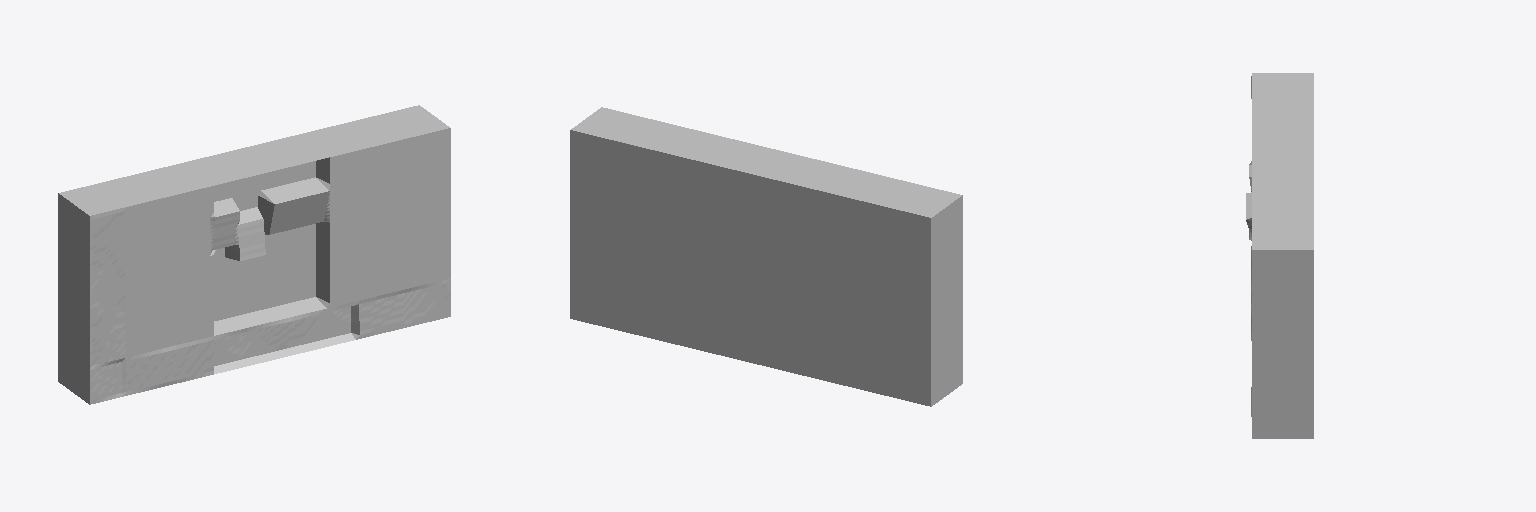
Rendered from rectangular_prism_bumps_2_1.obj.
3 views of the same model, side by side, from view 1: azimuth 30°, elevation 25°; view 2: azimuth 150°, elevation 25°; view 3: azimuth 270°, elevation 25° (orthographic).
Bounding box in the file's own units: 10 × 5 × 1.64.